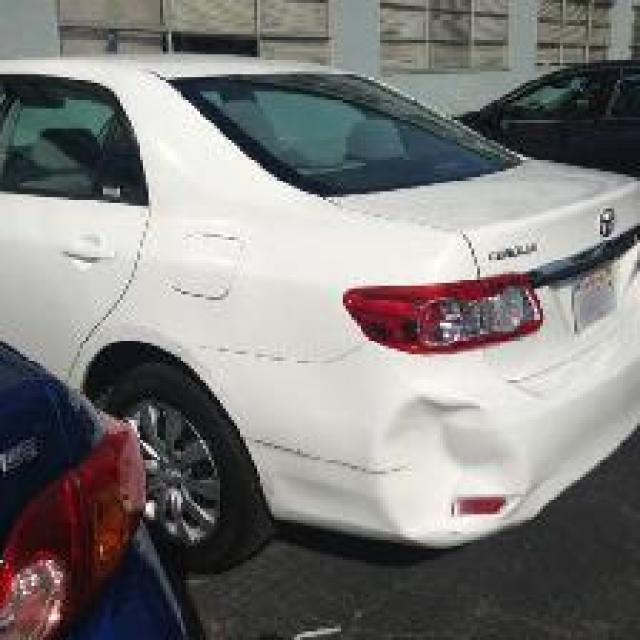damaged: (368, 397, 532, 554)
